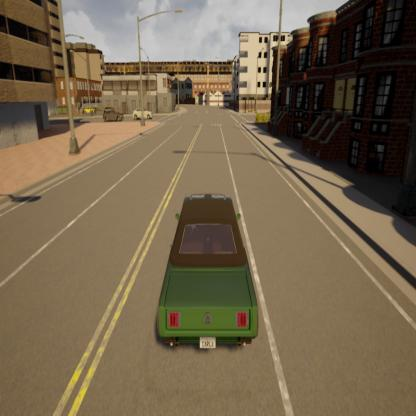Cars: (150, 184, 268, 364), (101, 104, 127, 122), (132, 104, 154, 122), (83, 104, 97, 116)
